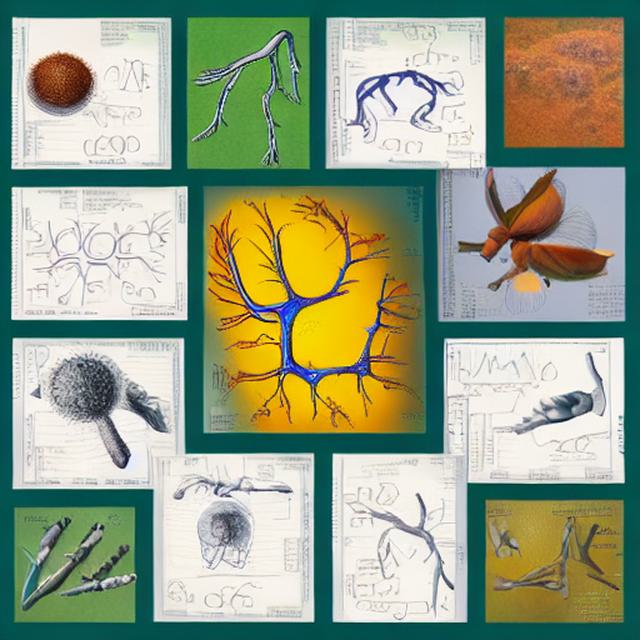Graph: (447, 342, 536, 394)
